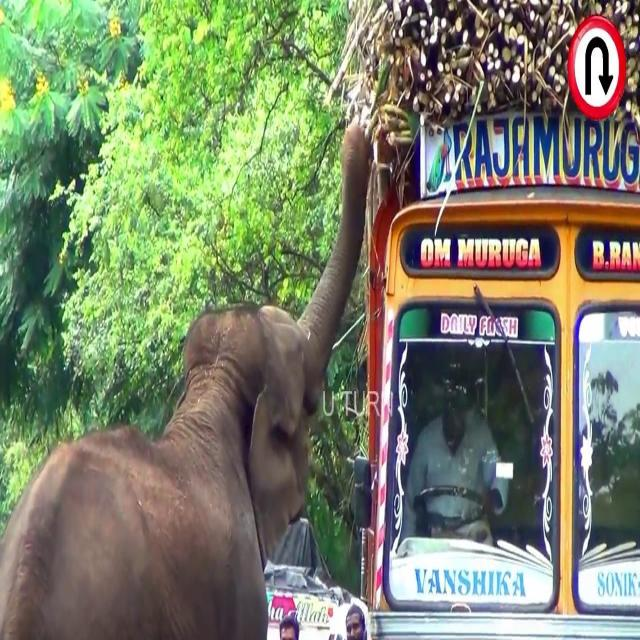Elephant: (1, 121, 371, 630)
